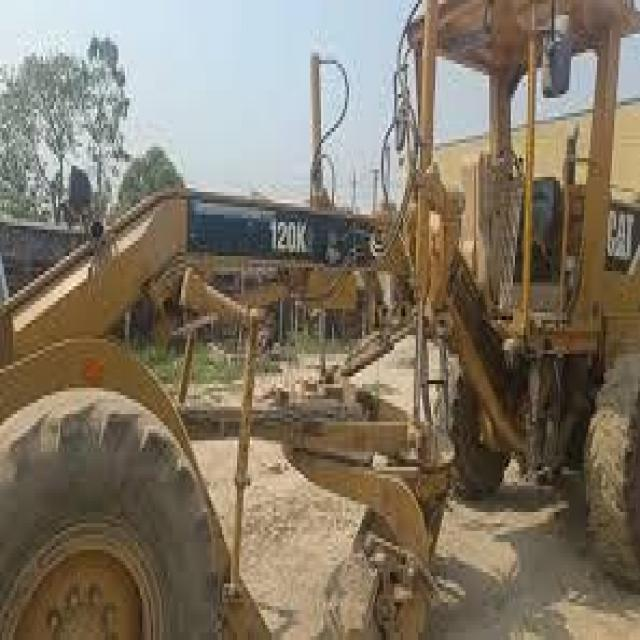Grader: (4, 8, 638, 636)
